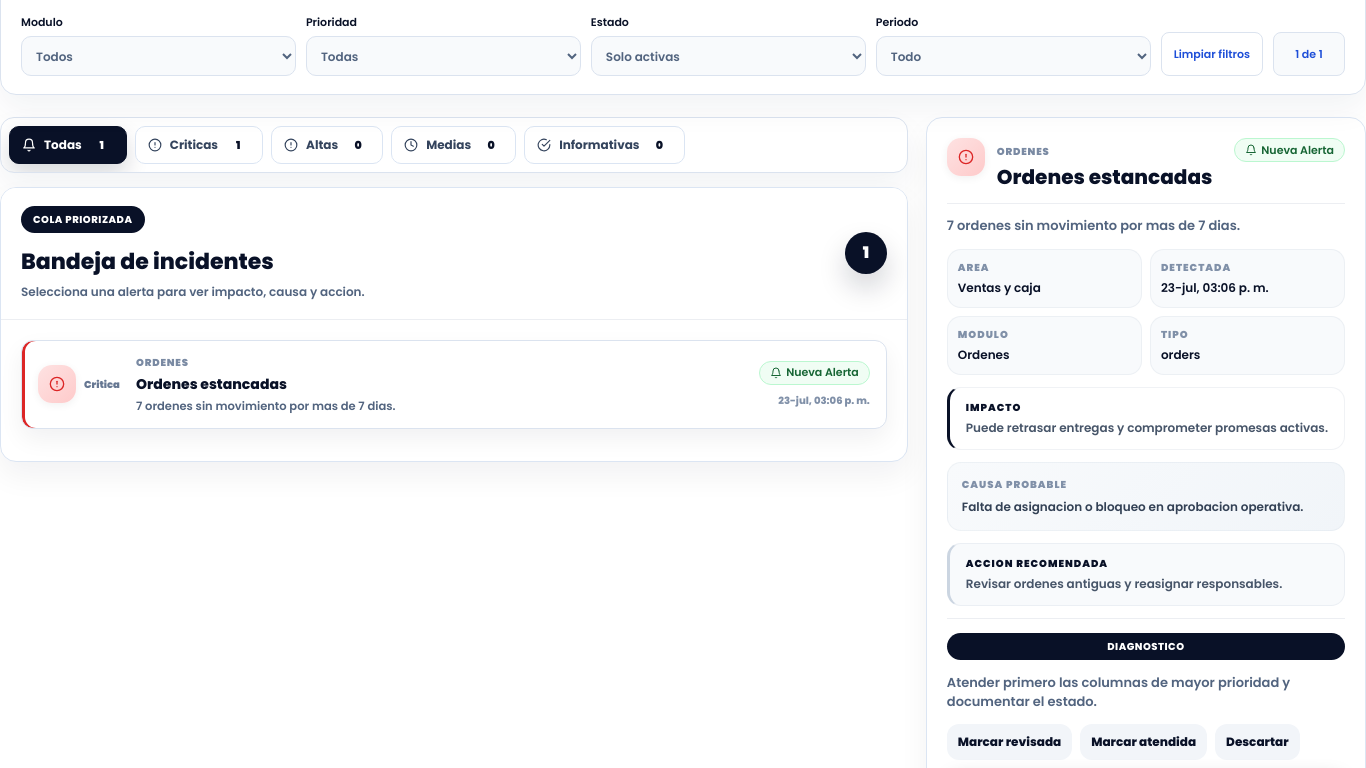
Test case: KPIAlertsPanel incident detail modal › opens the selected incident with complete detail and closes from the close button
Click the button with class "kpi-alert-center-row": (57, 384) [21, 340, 887, 429]
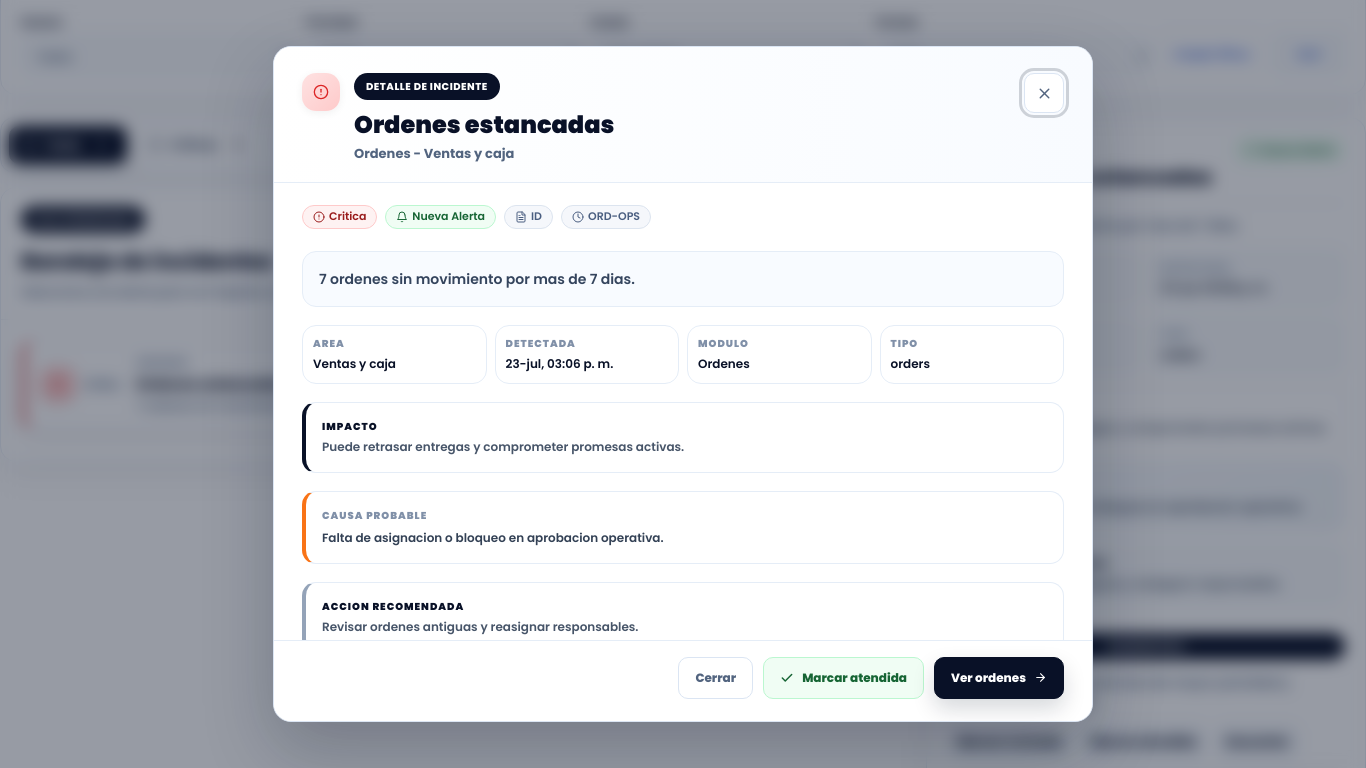
Now the dialog is shown, box [273, 46, 1093, 722]
Now the button with class "kpi-alert-center-row" is expanded, box [21, 340, 887, 429]
Now the dialog shows "Critica", box [329, 208, 366, 224]
Click the button named "Cerrar detalle del incidente": (1044, 93) [1024, 73, 1064, 113]
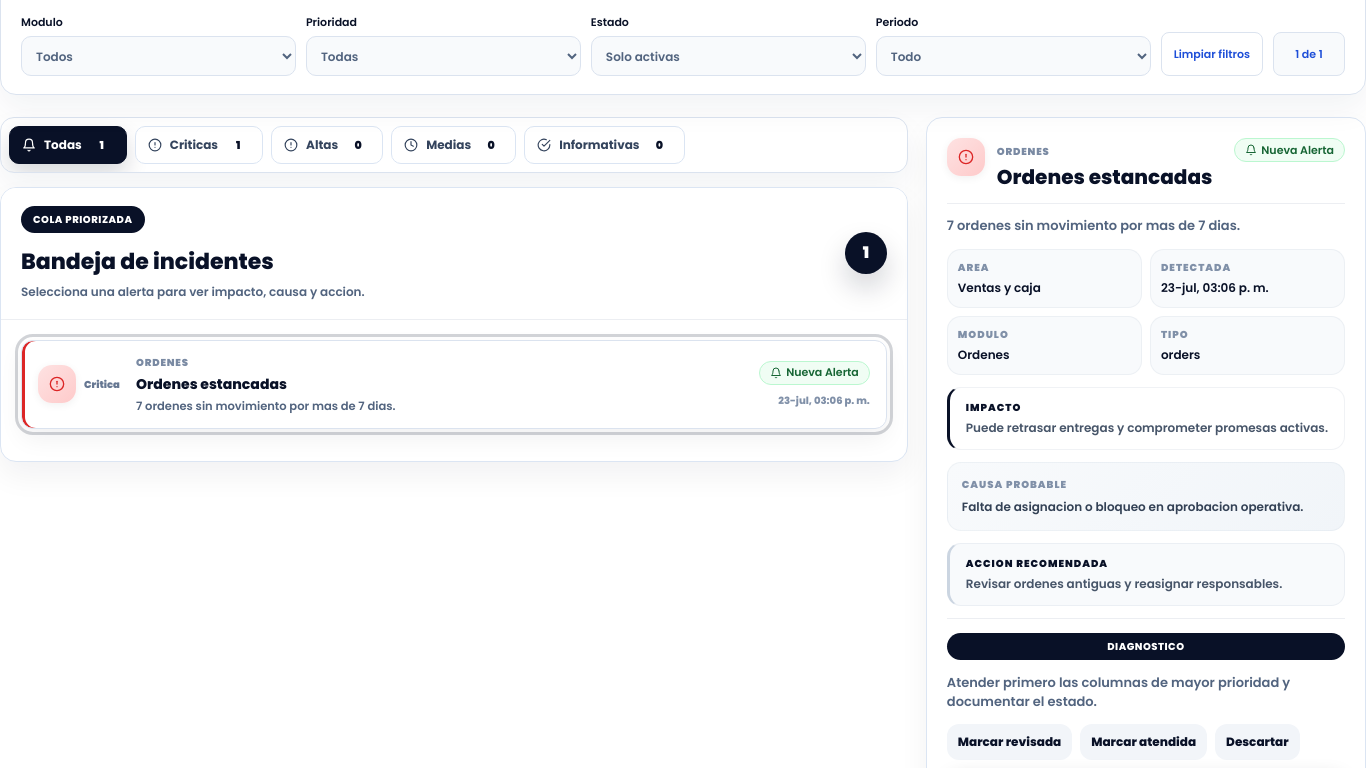
Now the dialog is gone
Now the button with class "kpi-alert-center-row" is collapsed, box [21, 340, 887, 429]
